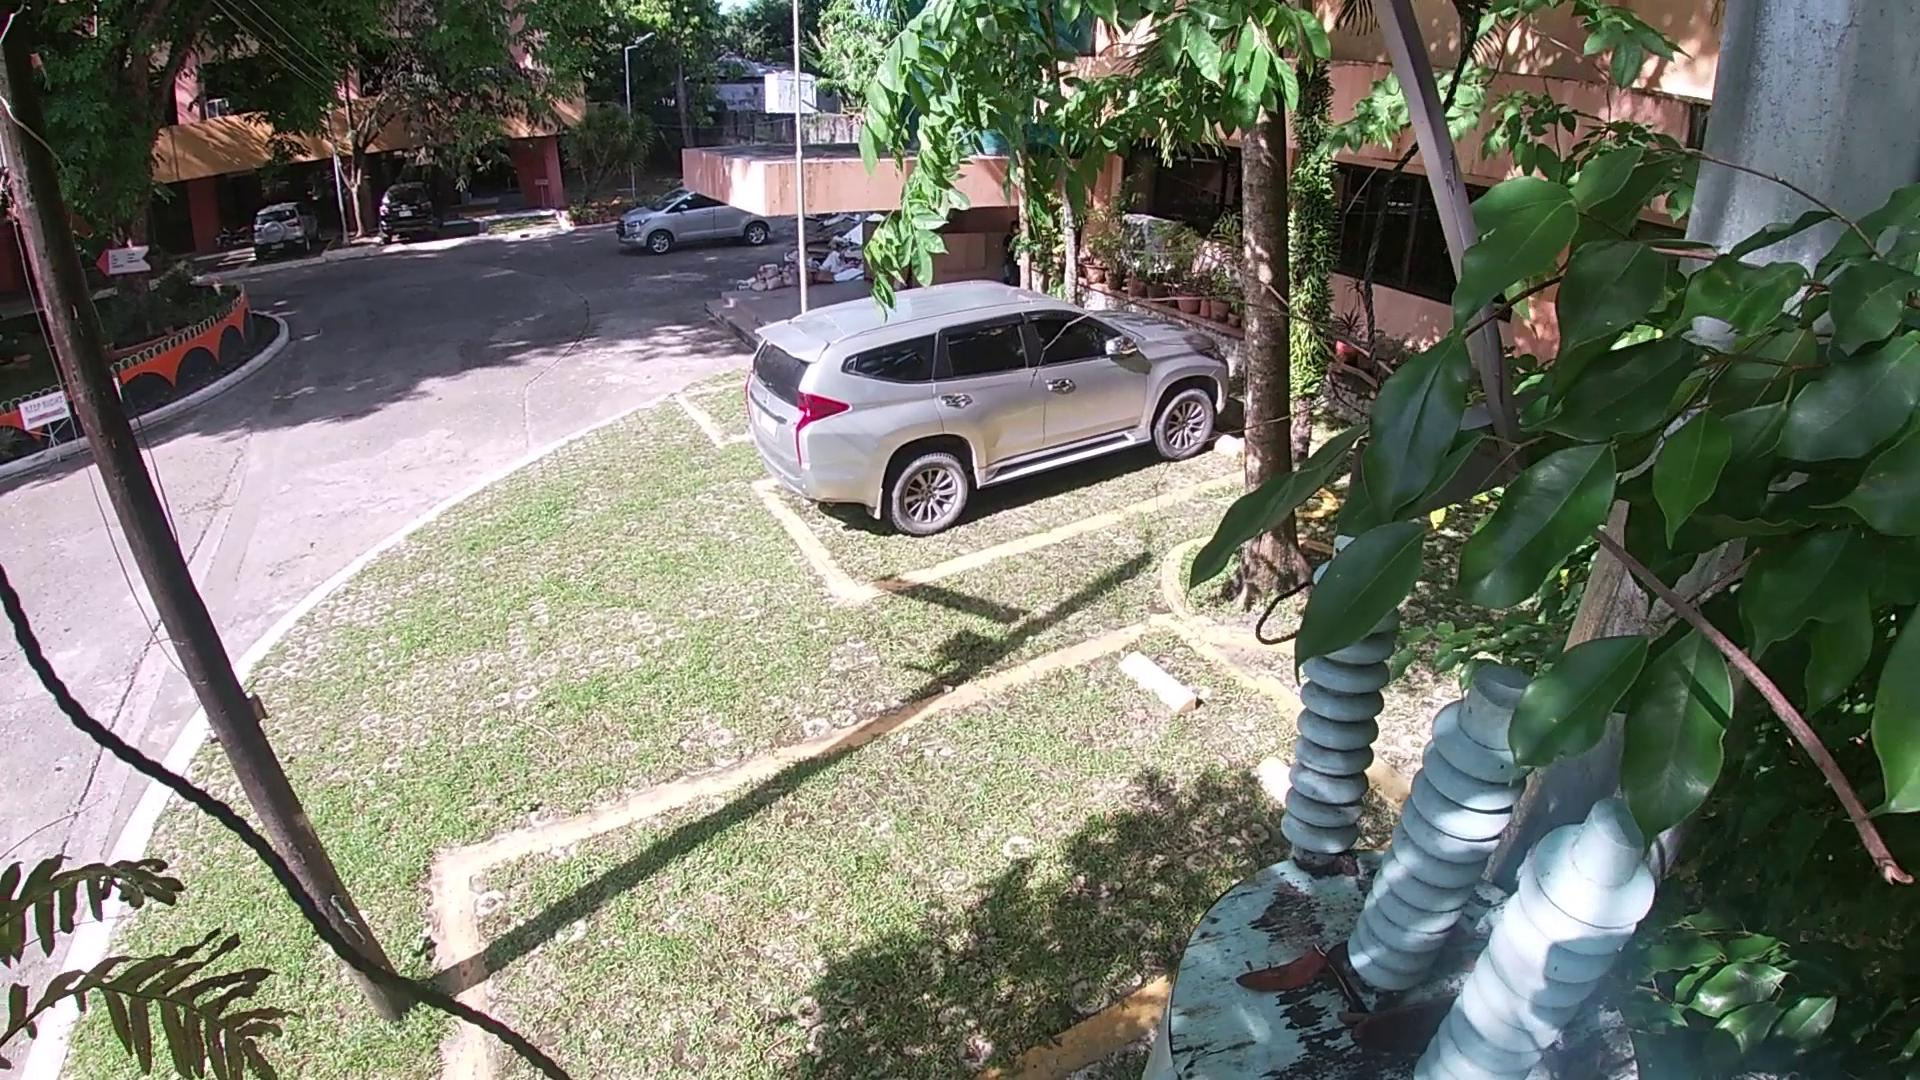leaf: (1335, 961, 1371, 1011)
mahogany fruit: (1226, 948, 1342, 1001), (1342, 1009, 1458, 1044)
tree branch: (1040, 256, 1911, 919), (1561, 1029, 1640, 1080), (1427, 952, 1501, 975)
